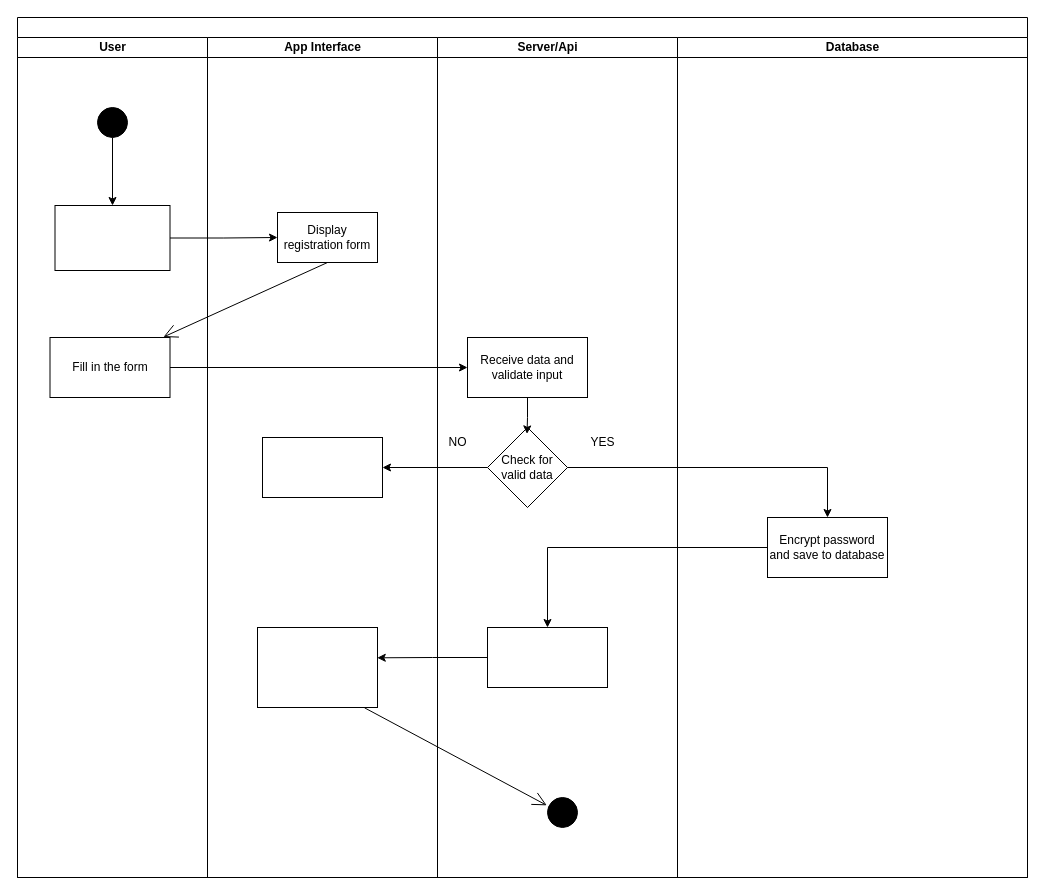
This 1045x895 diagram has some shape labels left out. Each missing label, with the centre of its shape:
Create login session and issue token for account: (547,657)
Display "Registration successfull" message and navigate to the home page: (317,667)
Invalid data and show error message: (322,467)
Start the app, then chose "Register" to sign up: (112,237)
